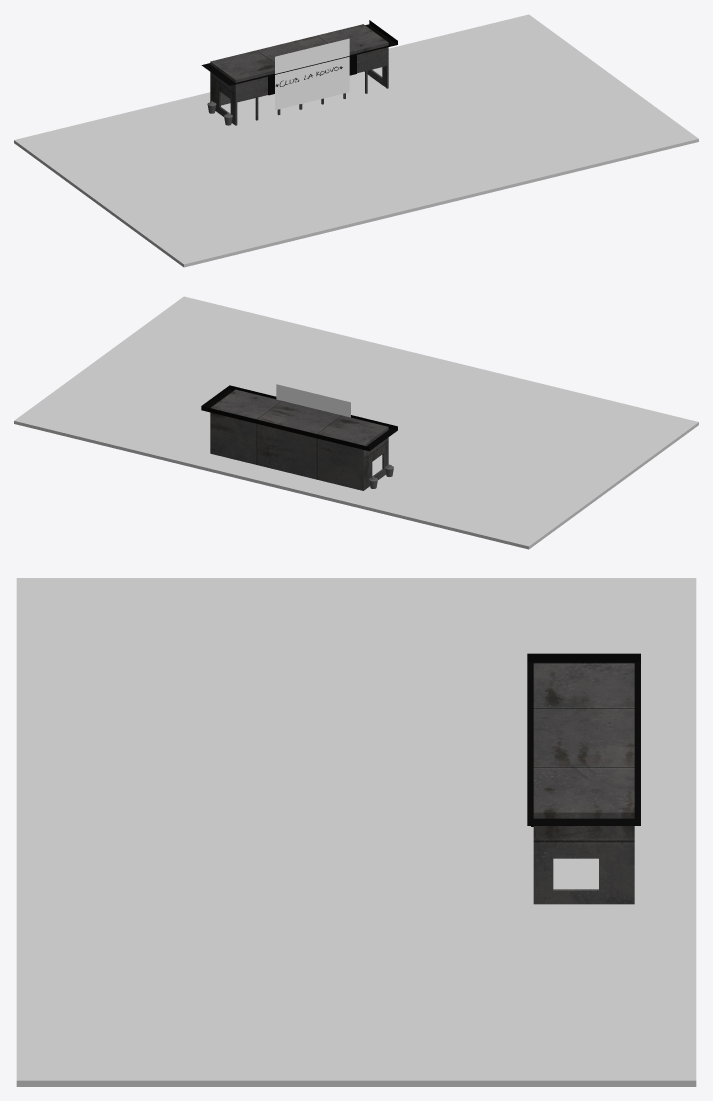
File: ClubLaKouvoTest.fbx
3 renders of one model, top to bottom at view 1: azimuth 30°, elevation 25°; view 2: azimuth 150°, elevation 25°; view 3: azimuth 270°, elevation 25°, orthographic. The views are drawn at different scales.
Parts seen in each view (by area): view 1: Cube, Cube.001, bouncerblast_lakouvo, Cube.004; view 2: Cube, Cube.001, Cube.004, bouncerblast_lakouvo; view 3: Cube, Cube.001, Cube.004.
Part boxes in pixels (left/top/right/bottom): Cube: left=14, top=14, right=698, bottom=267; Cube.001: left=210, top=24, right=388, bottom=125; bouncerblast_lakouvo: left=275, top=38, right=349, bottom=110; Cube.004: left=201, top=20, right=397, bottom=85; Cube: left=14, top=296, right=698, bottom=549; Cube.001: left=210, top=389, right=388, bottom=490; Cube.004: left=201, top=385, right=397, bottom=451; bouncerblast_lakouvo: left=276, top=384, right=350, bottom=417; Cube: left=16, top=578, right=696, bottom=1086; Cube.001: left=533, top=663, right=634, bottom=904; Cube.004: left=527, top=653, right=640, bottom=825.
Size of the model in its own units: 4707 by 552 by 2691.
6 materials, 2 textured.
